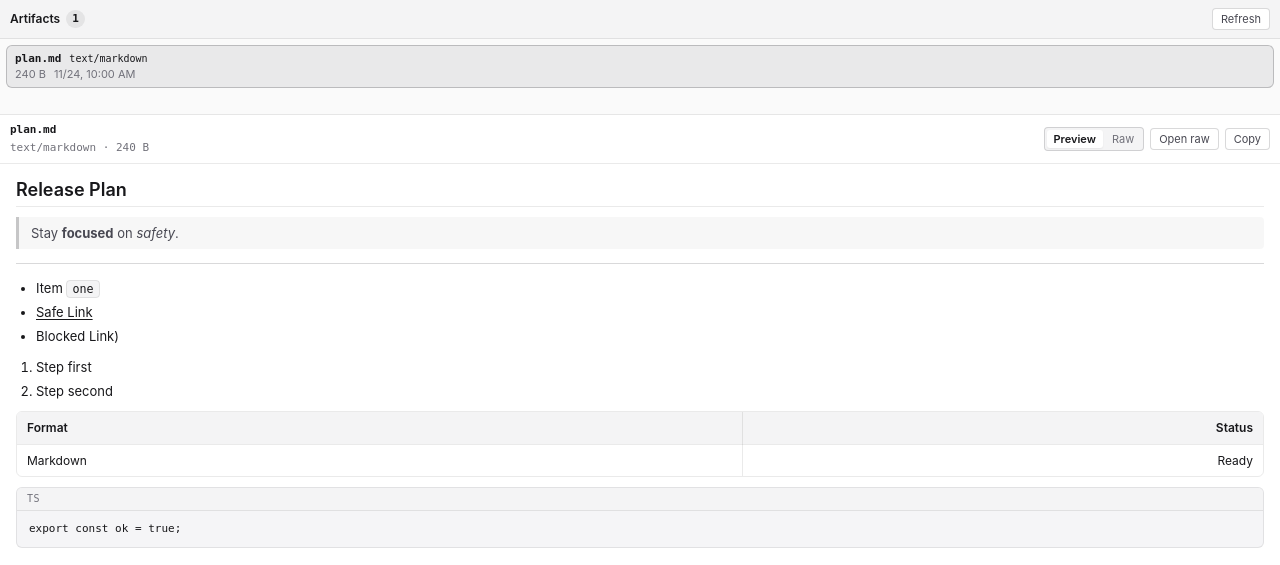
Test case: artifactPreviewers & ArtifactsPanel › renders rich Markdown blocks/inline elements safely and toggles Raw mode
Expected: the heading "Release Plan" is shown, [16,178,1264,207]
Expected: the element showing "Stay focused on safety." is shown, [16,217,1264,250]
Step 1. Click the button with test id "artifact-mode-raw" → click(1123, 139), box [1105,130,1141,148]
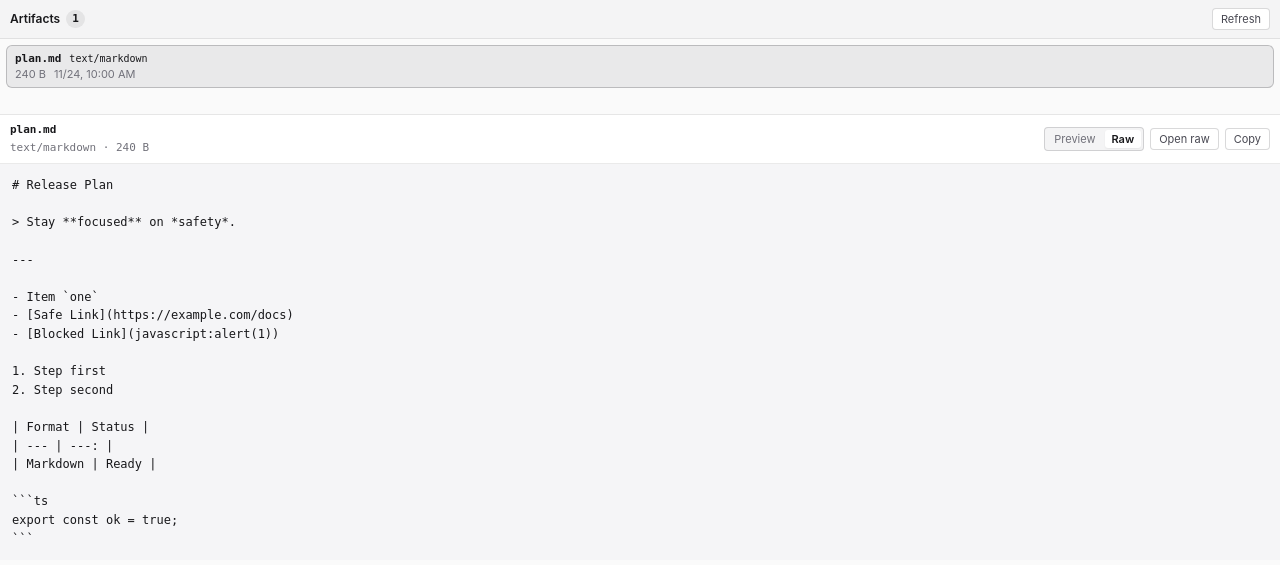
Expected: the text with test id "artifact-raw-content" shows "# Release Plan", [12,178,294,546]
